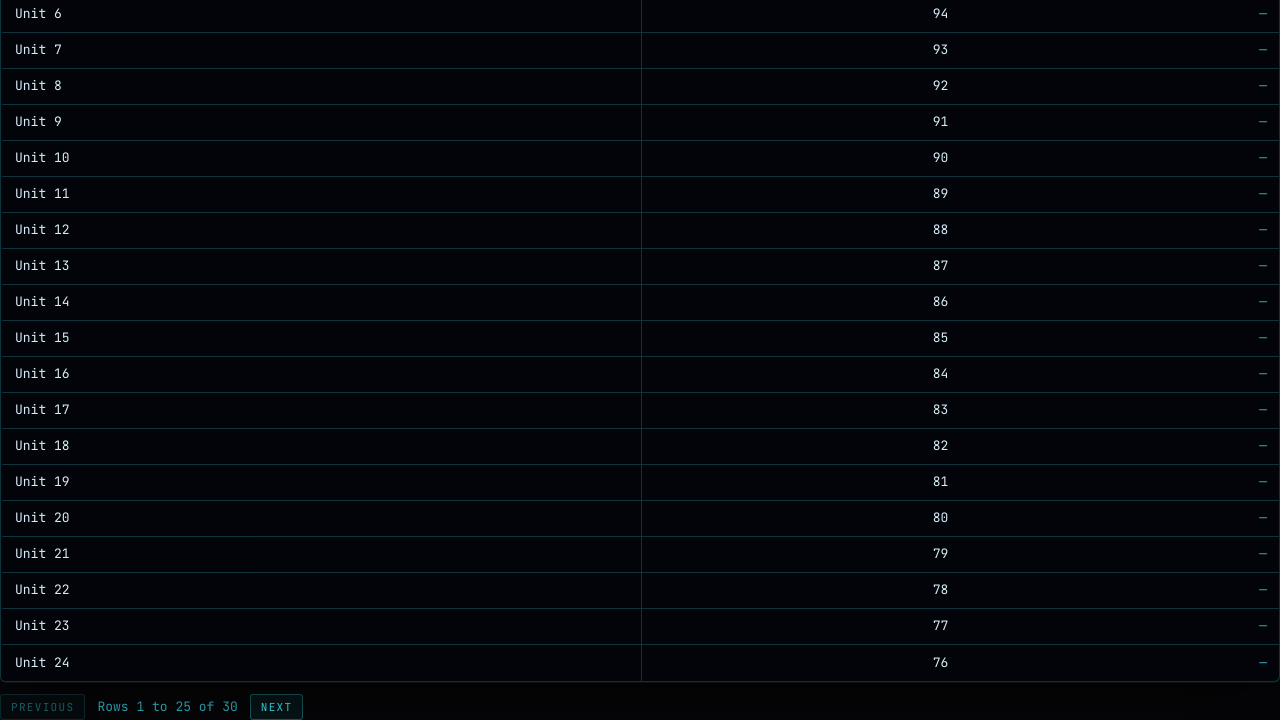
Test: units table › returns to page 1 when the sort changes
The width and height of the screenshot is (1280, 720).
(page scrolled)
Click the button "Next".
click(277, 707)  # box [250, 694, 304, 719]
(page scrolled)
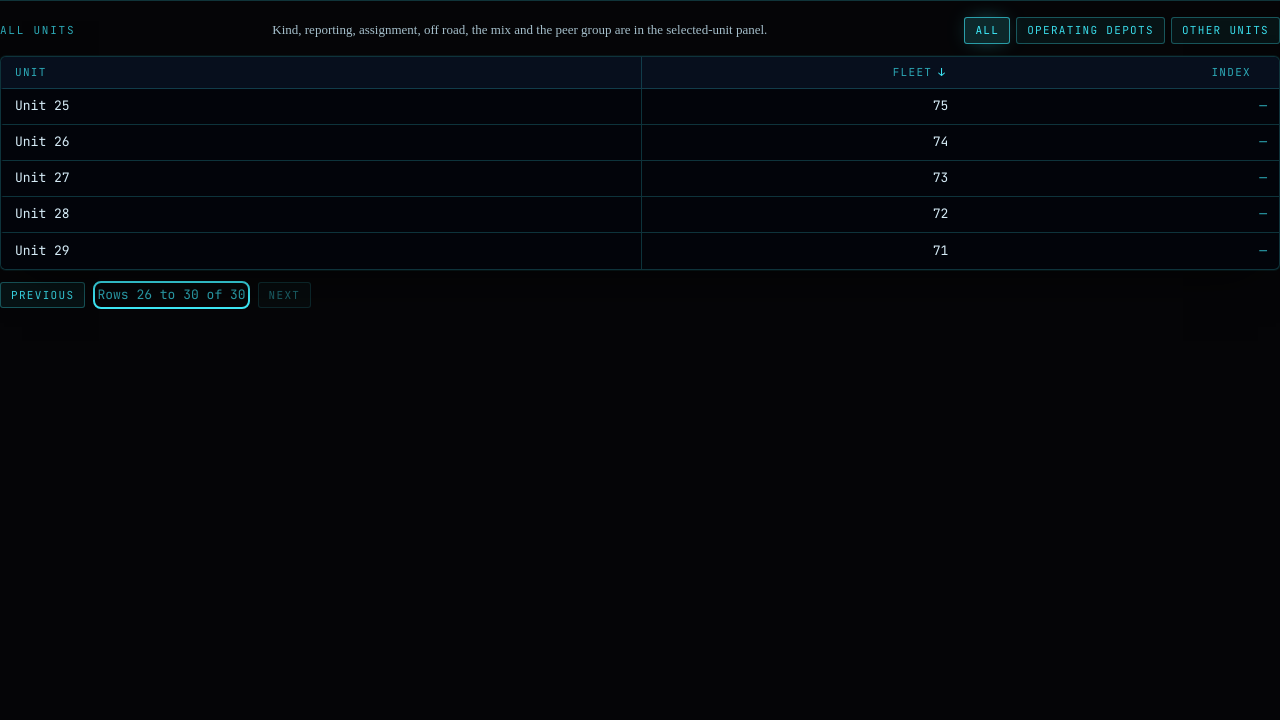
Click the button "Unit".
click(39, 72)  # box [15, 64, 63, 80]
(page scrolled)
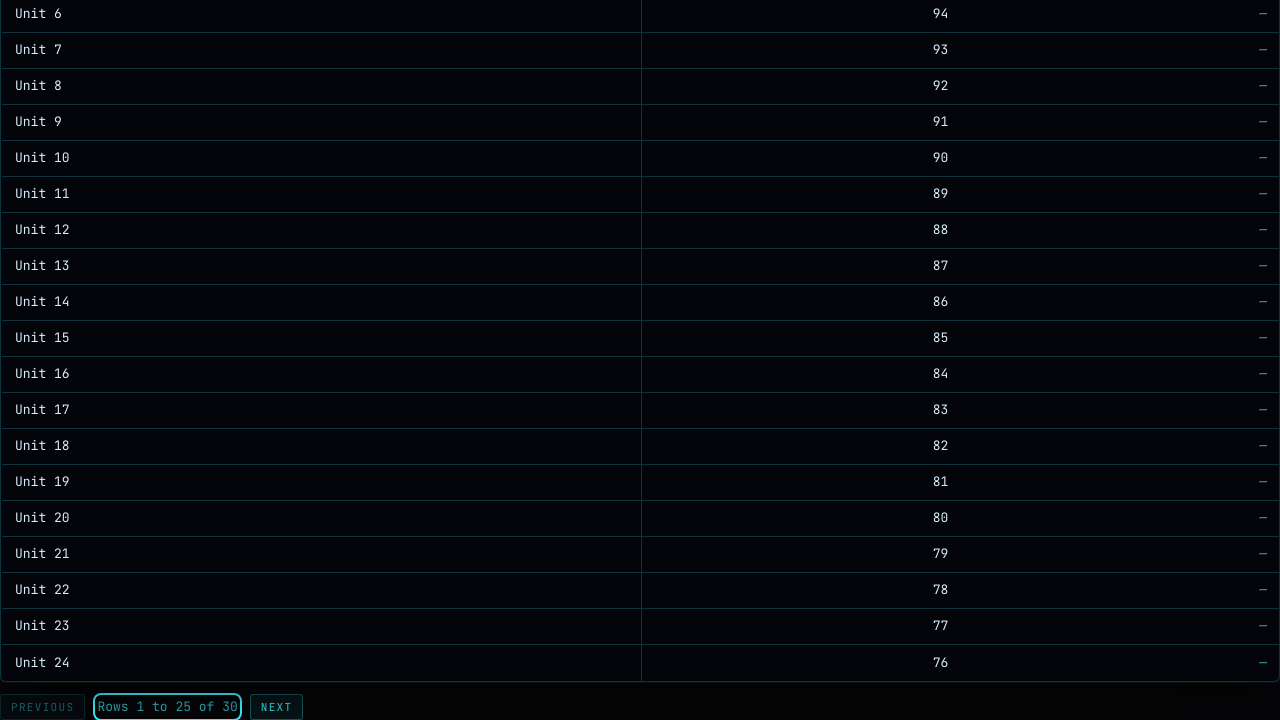
Result: the message "Rows 1 to 25 of 30" is shown at [97, 697, 238, 716]
